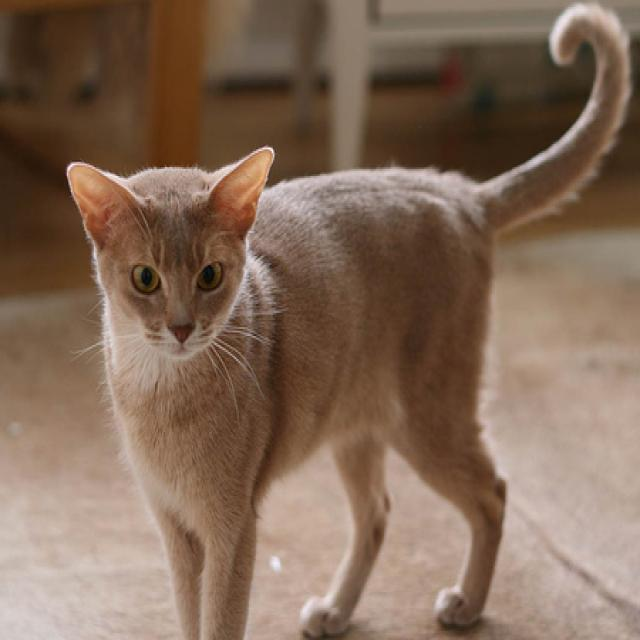Abyssinian: (62, 0, 636, 640)
